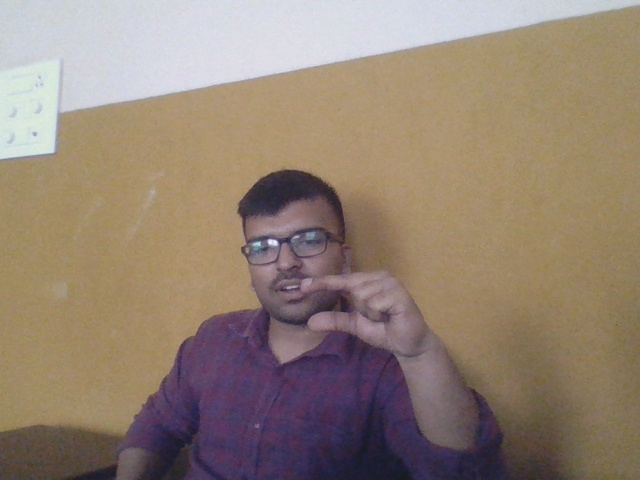No: (297, 268, 448, 361)
